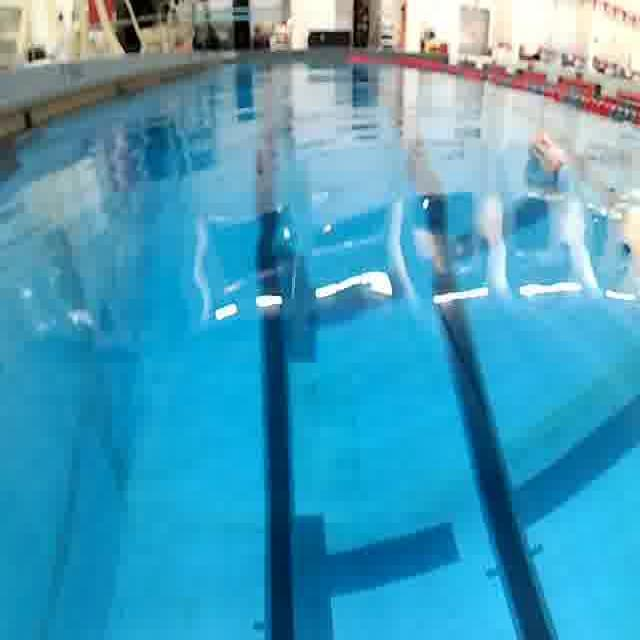Bottle: (524, 130, 580, 192)
